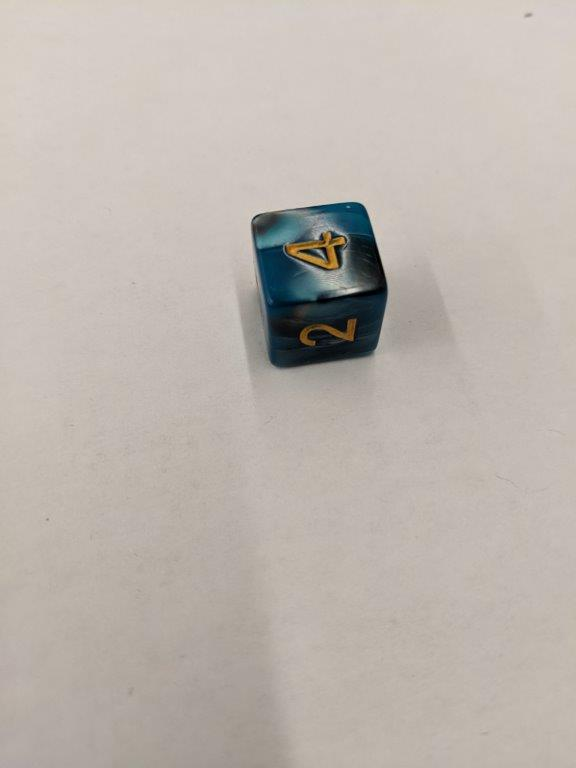d6-4: (248, 200, 388, 370)
